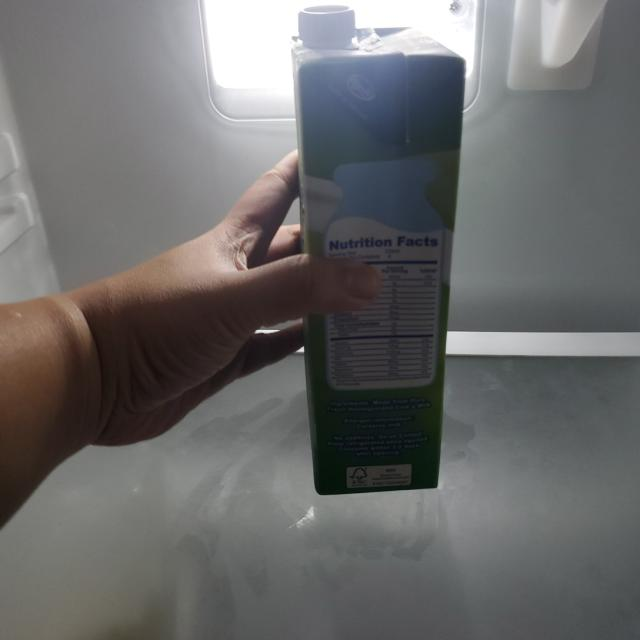milk: (289, 7, 467, 499)
